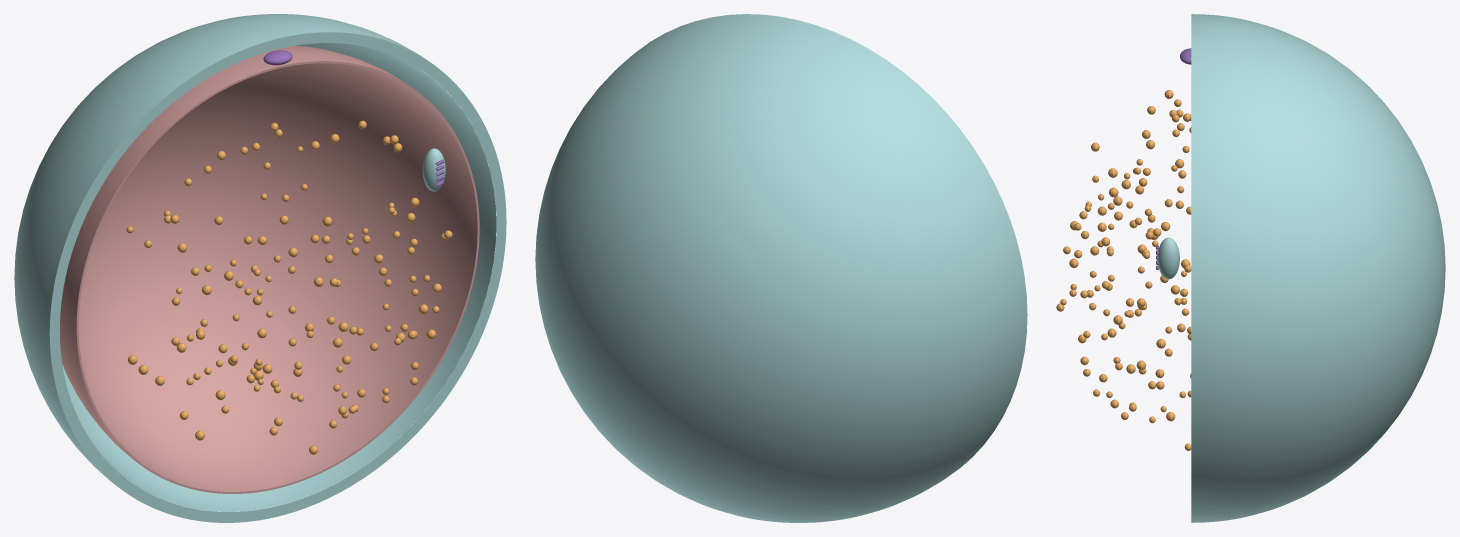
The model's file is bio3d2-egg.glb.
3 renders of one model, left to right at view 1: azimuth 30°, elevation 25°; view 2: azimuth 150°, elevation 25°; view 3: azimuth 270°, elevation 25°, orthographic. The views are drawn at different scales.
Parts seen in each view (by area): view 1: Oocyte boundary; 120 um cell diameter, Zona pellucida; extracellular coat (cutaway), Illustrative cytoplasmic granules, Peripheral meiotic spindle (schematic); view 2: Zona pellucida; extracellular coat (cutaway); view 3: Zona pellucida; extracellular coat (cutaway), Illustrative cytoplasmic granules, Peripheral meiotic spindle (schematic).
Boxes of the visible parts, x1,y1,x2,y2 form: Oocyte boundary; 120 um cell diameter: [60, 45, 479, 493]; Zona pellucida; extracellular coat (cutaway): [14, 14, 506, 522]; Illustrative cytoplasmic granules: [126, 120, 452, 454]; Peripheral meiotic spindle (schematic): [422, 148, 445, 191]; Zona pellucida; extracellular coat (cutaway): [535, 14, 1027, 522]; Zona pellucida; extracellular coat (cutaway): [1191, 14, 1445, 522]; Illustrative cytoplasmic granules: [1056, 90, 1191, 450]; Peripheral meiotic spindle (schematic): [1157, 237, 1179, 279].
Size of the model in its own units: 136 by 136 by 104.
